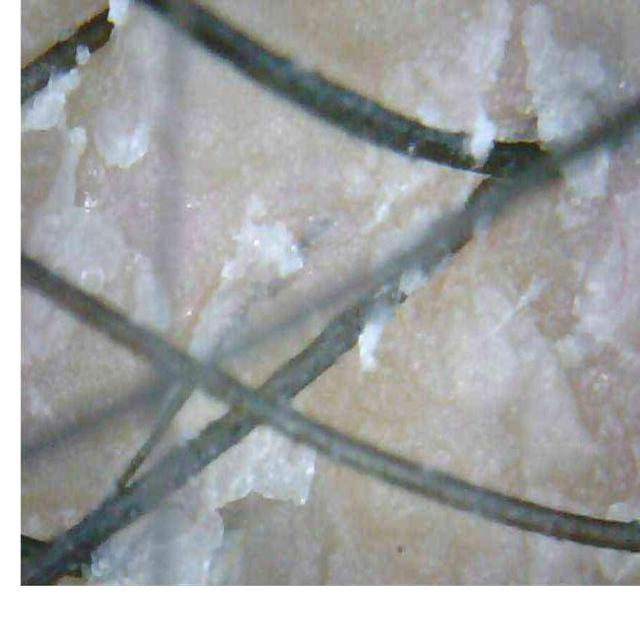d: (91, 428, 316, 584), (189, 194, 304, 358), (522, 3, 605, 139), (25, 208, 130, 305), (435, 0, 512, 132), (41, 126, 88, 211), (22, 68, 80, 131), (94, 109, 150, 170), (129, 253, 171, 332), (564, 147, 610, 199), (469, 107, 496, 164), (598, 552, 640, 584), (359, 322, 384, 372), (399, 268, 428, 300), (606, 498, 640, 521)
ds: (413, 218, 595, 517), (548, 217, 640, 372), (342, 150, 456, 239), (367, 207, 438, 270)
